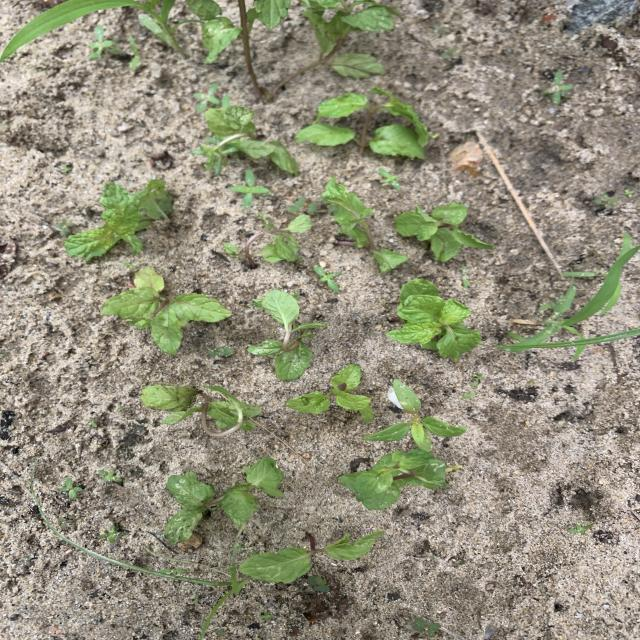crop: (272, 1, 399, 92), (102, 268, 230, 353), (164, 456, 283, 543), (185, 0, 290, 94), (301, 88, 436, 156), (64, 180, 172, 259), (324, 178, 407, 272), (387, 279, 481, 359), (239, 531, 383, 581), (249, 291, 326, 379), (339, 450, 449, 508), (208, 104, 297, 173), (142, 385, 262, 435), (396, 203, 491, 260), (286, 364, 374, 423), (224, 213, 311, 266)
weed: (40, 510, 248, 640), (498, 240, 638, 352), (0, 0, 199, 60), (362, 379, 466, 450), (192, 136, 234, 174), (232, 170, 268, 207), (542, 70, 572, 103), (90, 25, 118, 58), (196, 84, 219, 111), (315, 265, 339, 290), (413, 617, 440, 636), (288, 198, 319, 214), (100, 525, 126, 542), (60, 478, 82, 498), (380, 168, 399, 187), (595, 193, 617, 208), (308, 576, 329, 591), (129, 37, 138, 70), (99, 469, 120, 482), (208, 347, 233, 356), (569, 524, 591, 534), (57, 219, 71, 234), (442, 47, 458, 58), (160, 568, 184, 575), (472, 373, 482, 385), (462, 392, 475, 398)
